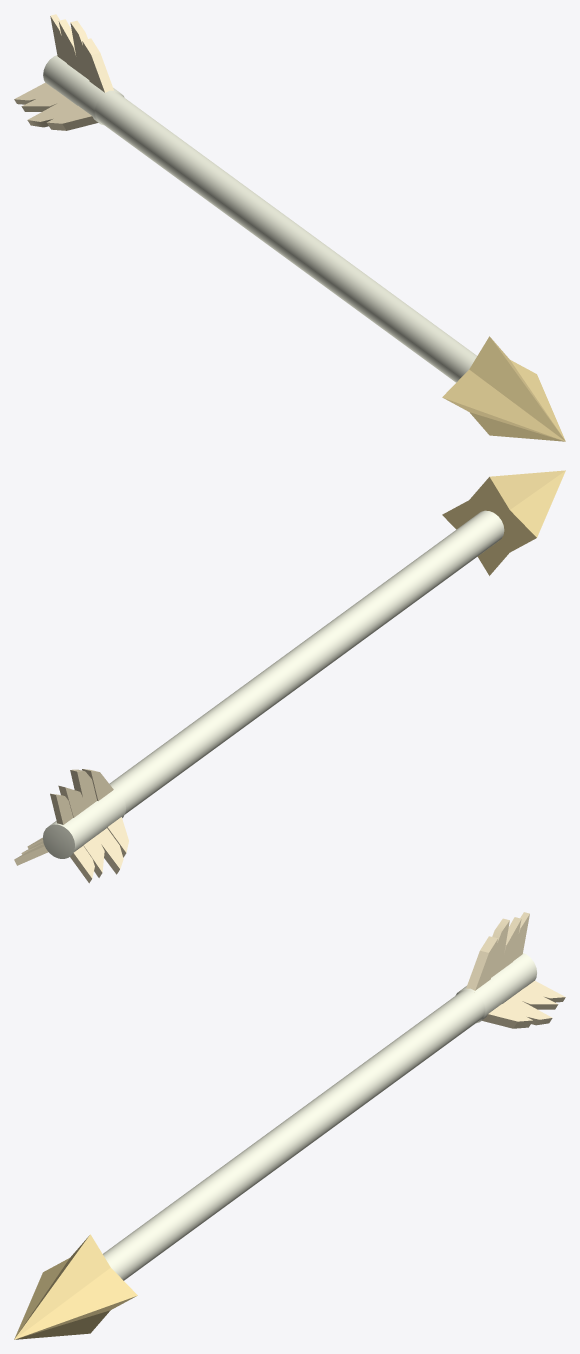
File: Arrow3.fbx
3 views of the same model, one above another, from view 1: azimuth 30°, elevation 25°; view 2: azimuth 150°, elevation 25°; view 3: azimuth 330°, elevation 25° (orthographic).
Parts seen in each view (by area): view 1: polySurface615; view 2: polySurface615; view 3: polySurface615.
Boxes of the visible parts, x1,y1,x2,y2 form: polySurface615: (14, 14, 565, 441); polySurface615: (14, 470, 565, 883); polySurface615: (14, 912, 565, 1339).
Bounding box in the file's own units: 0.1186 × 0.131 × 1.11.
